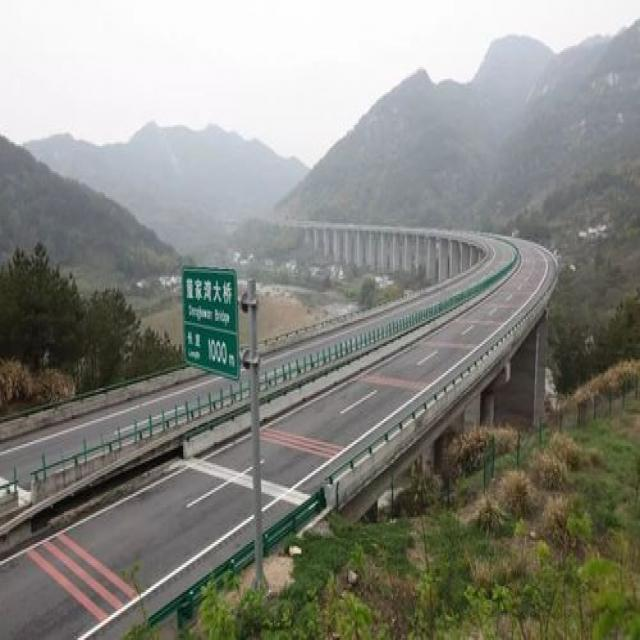point: (441, 169, 567, 311)
